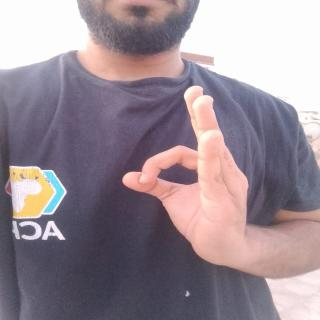Space: (115, 80, 254, 264)
